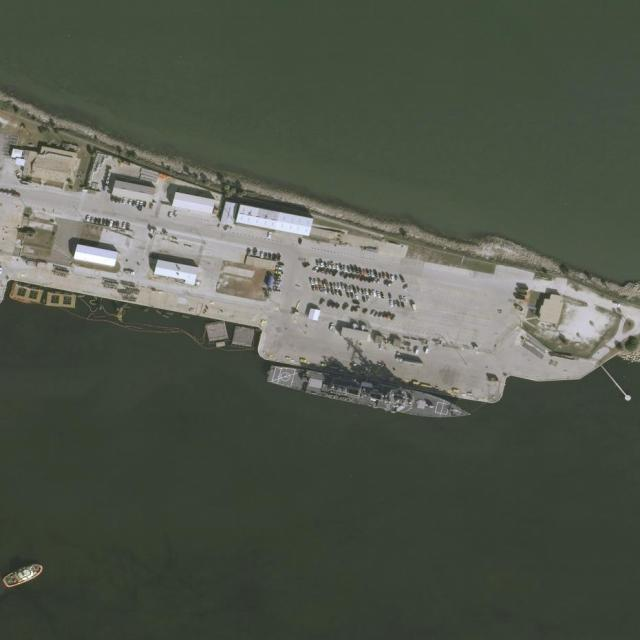Destroyer: (265, 359, 474, 428)
Hovercraft: (1, 558, 47, 591)
